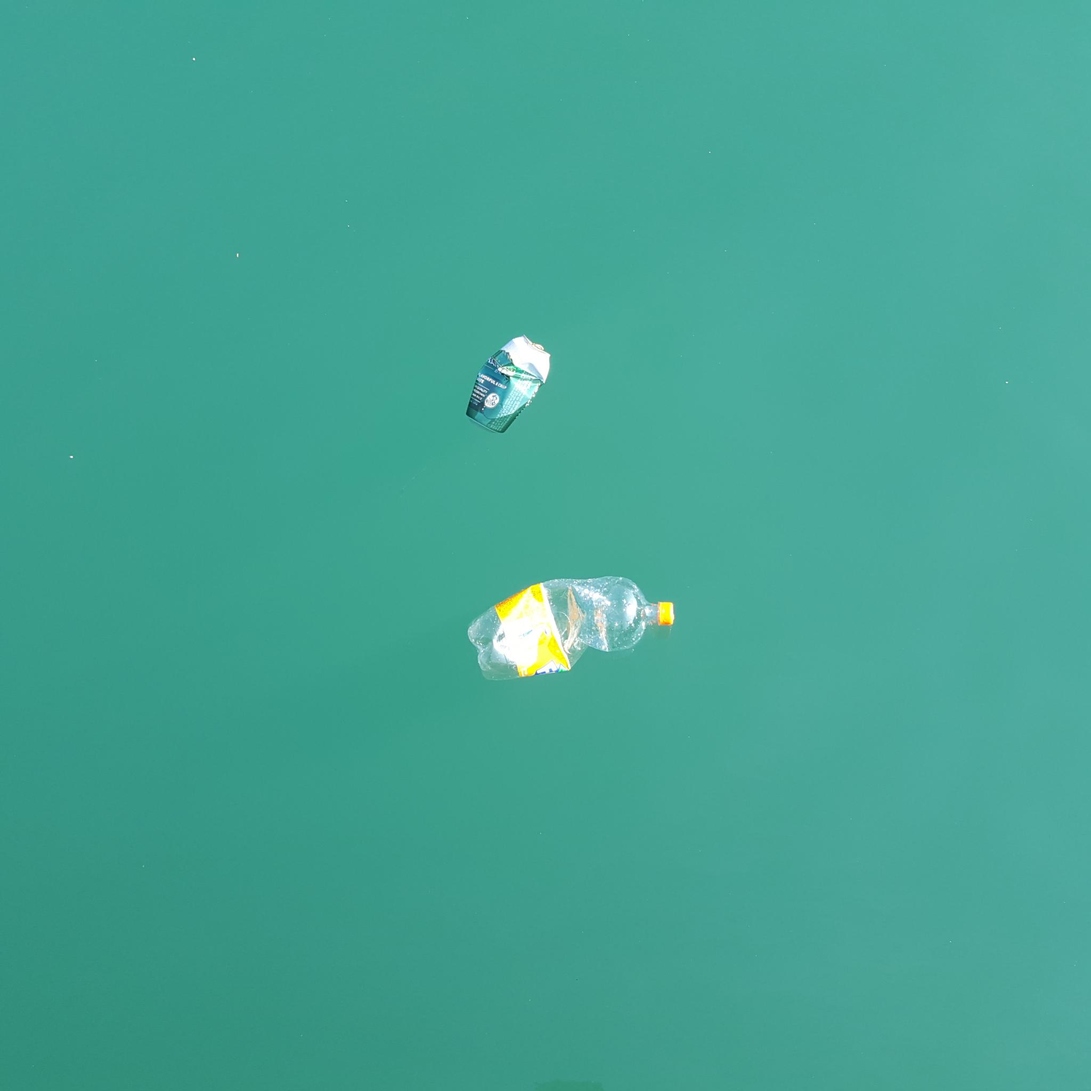sampah_terapung: (468, 576, 675, 681), (466, 335, 551, 434)
